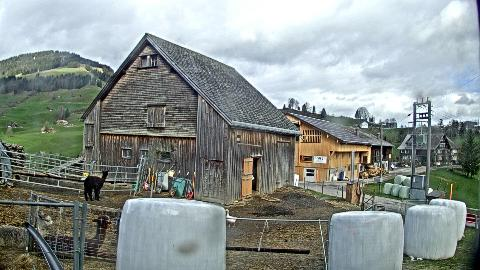car: (390, 162, 396, 172)
sheep: (36, 213, 112, 257), (0, 212, 54, 254), (84, 170, 108, 202)
